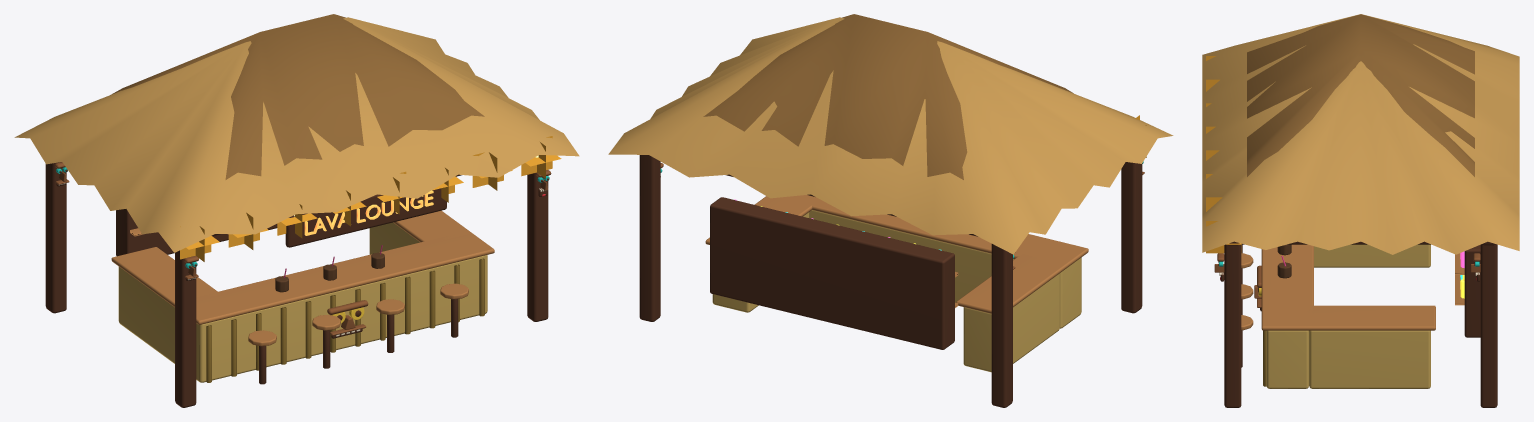
Rendered from lava_bar.glb.
The picture shows the model from 3 angles, left to right: view 1: azimuth 30°, elevation 25°; view 2: azimuth 150°, elevation 25°; view 3: azimuth 270°, elevation 25°; orthographic projection.
Parts seen in each view (by area): view 1: Bar; view 2: Bar; view 3: Bar.
Part boxes in pixels (x1,y1,x2,y2): Bar: (14,14,579,407); Bar: (608,14,1173,407); Bar: (1202,14,1519,407).
Size of the model in its own units: 7.6 by 5.22 by 5.2.
